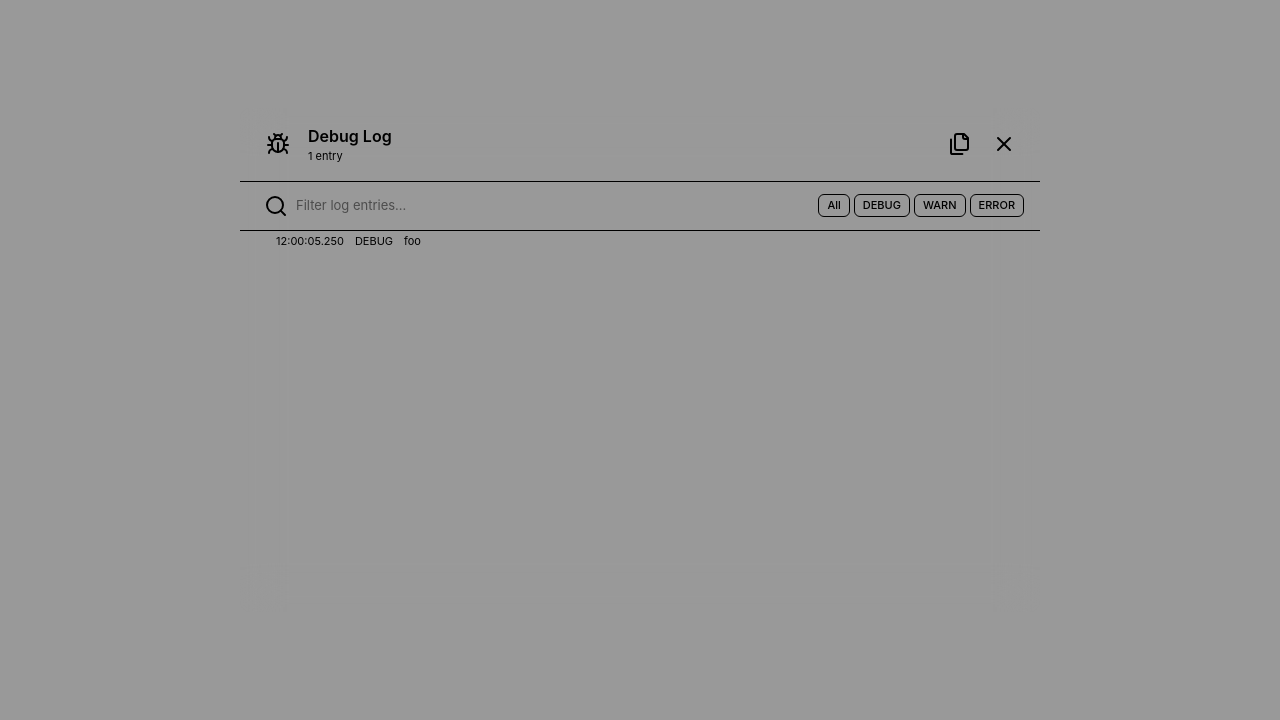
Test: DebugLogSheet: search (client-side, no refetch) › shows "No matching entries" when the search excludes every loaded entry
The width and height of the screenshot is (1280, 720).
In the field named "Filter log entries": (413, 206) [296,196,529,215], type "zzz-no-match"
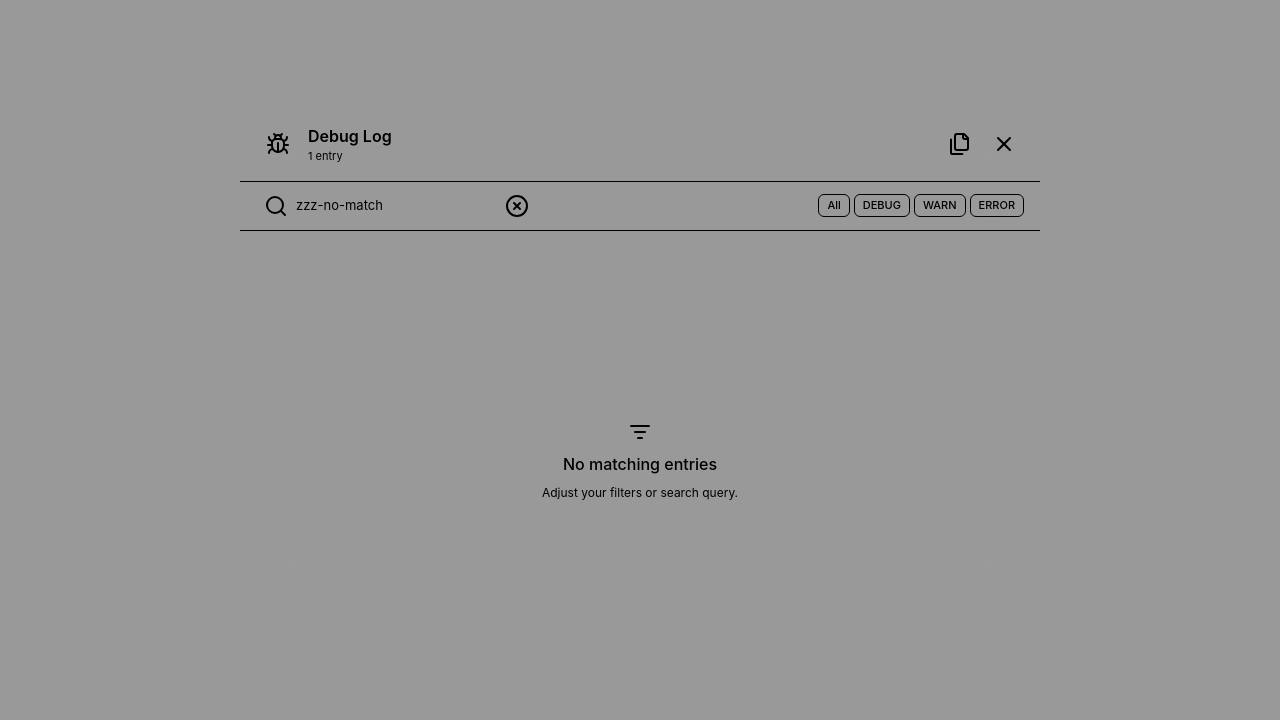
Check: the text "No matching entries" is shown, box [563,452,717,476]
